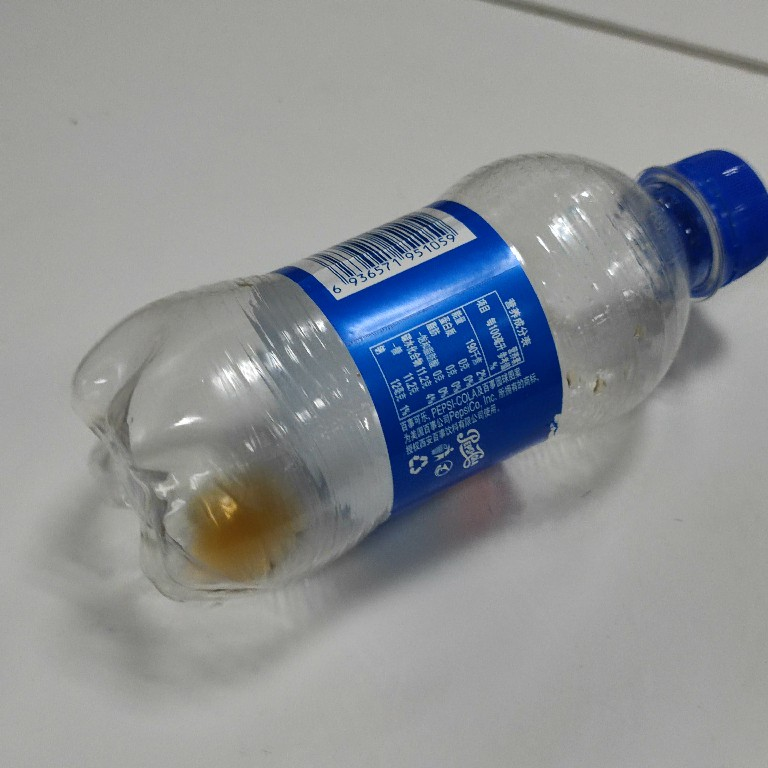bottle: (64, 142, 768, 610)
